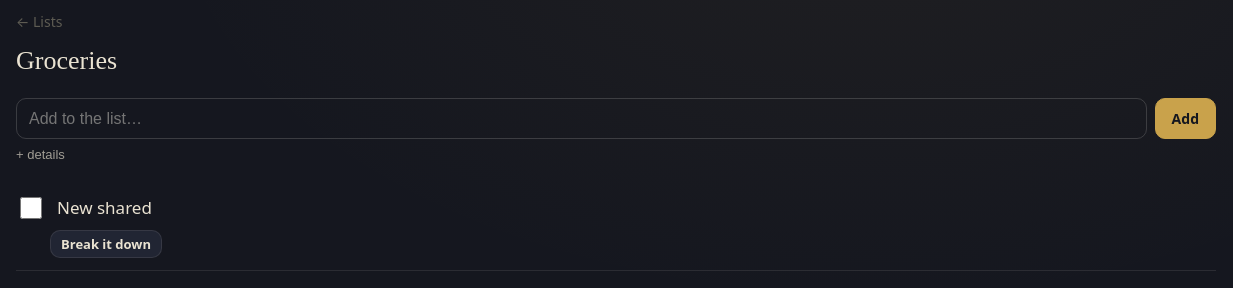
Test: list detail — optimistic complete, rollback, breakdown polling › break it down starts a job and, once the poll reports done, shows the done chip
The image size is (1233, 288).
Expected: the text "New shared" is shown, left=57, top=195, right=152, bottom=221
Click the button with aria-label "Break down New shared".
click(106, 244)  # box left=50, top=230, right=162, bottom=258
Wait 5000 ms
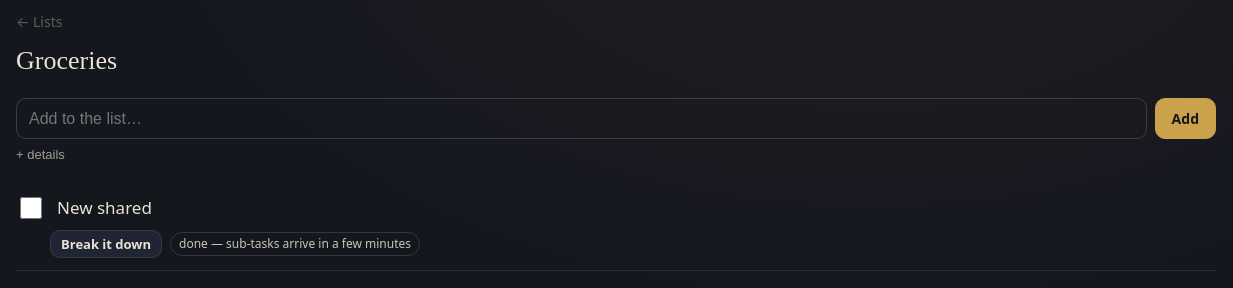
Expected: the text "done — sub-tasks arrive in a few minutes" is shown, left=170, top=232, right=420, bottom=256
